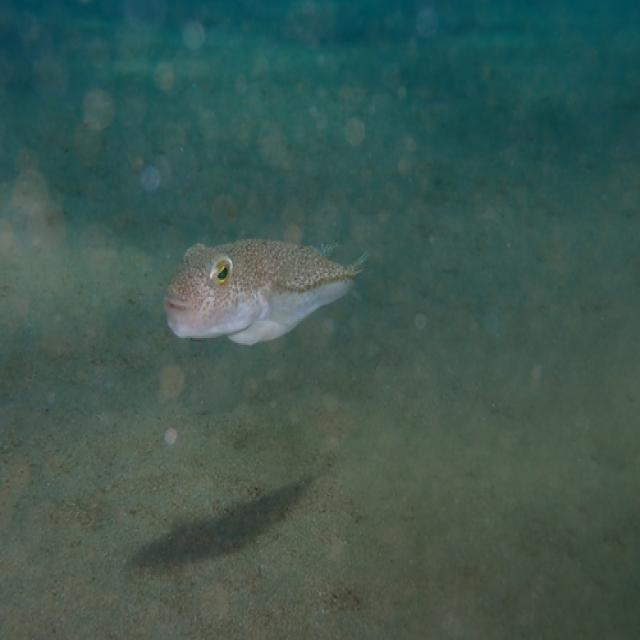Balik: (164, 239, 366, 344)
